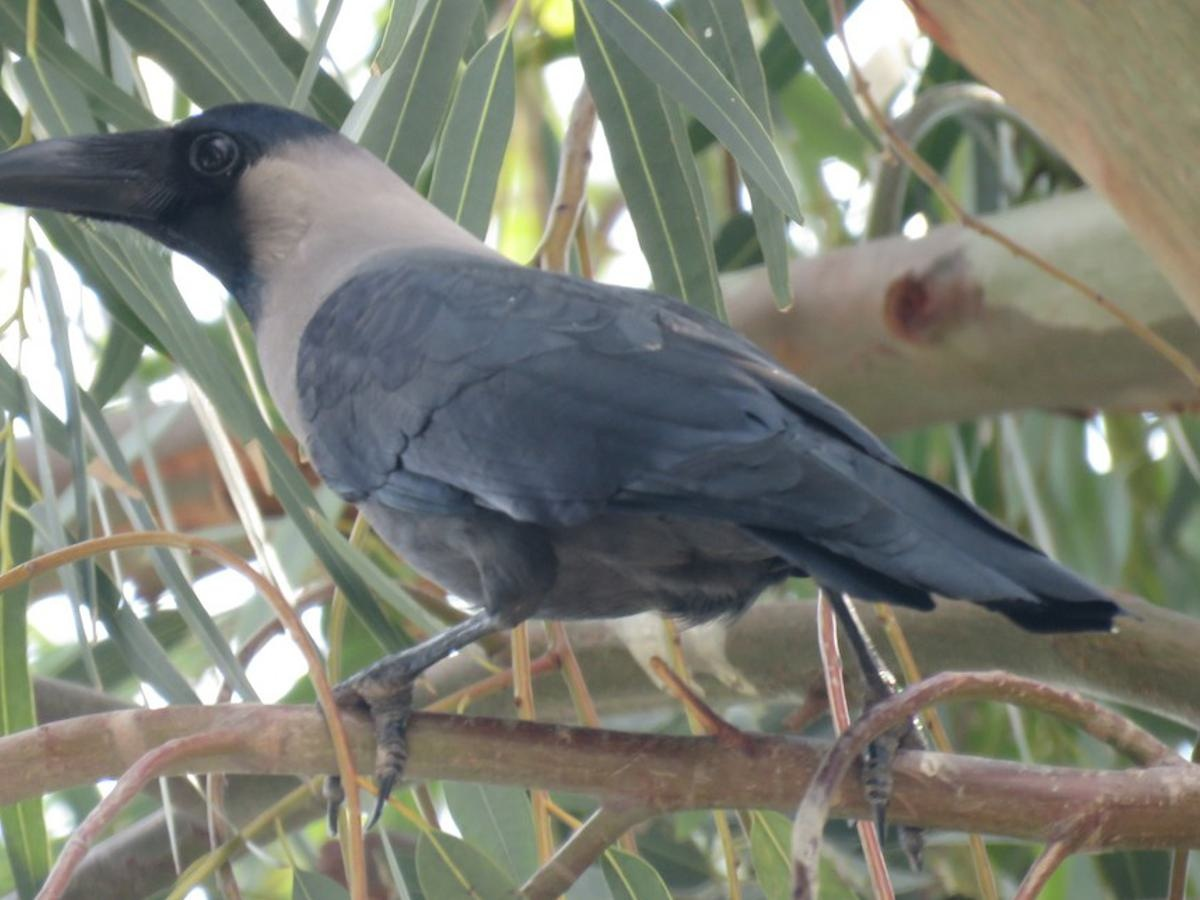crow: (4, 92, 1115, 820)
